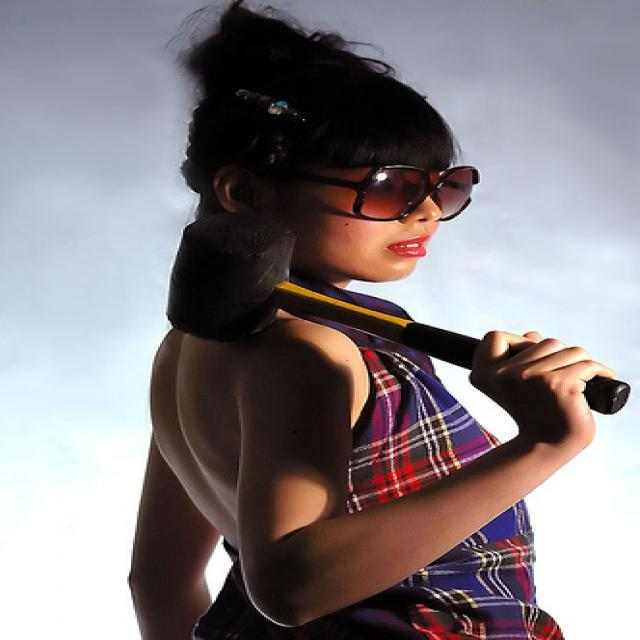hammer: (142, 207, 628, 420)
